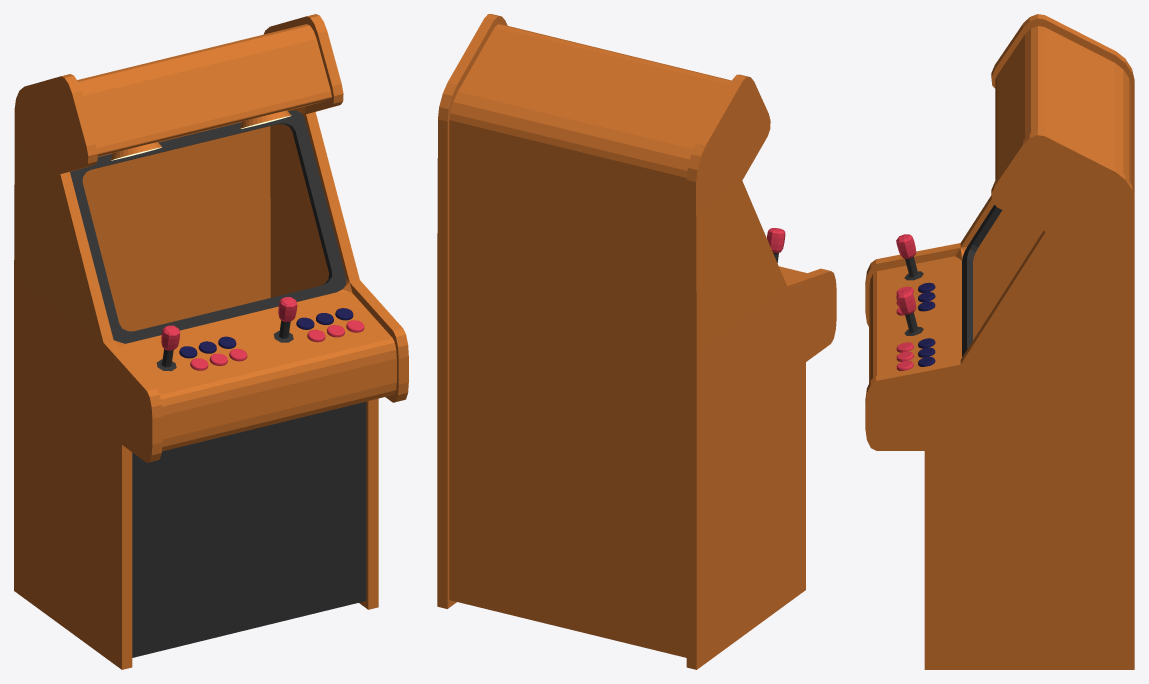
File: arcade_cabinet.glb
The picture shows the model from 3 angles, left to right: view 1: azimuth 30°, elevation 25°; view 2: azimuth 150°, elevation 25°; view 3: azimuth 270°, elevation 25°; orthographic projection. The views are drawn at different scales.
Visible parts, largest first — view 1: Cabinet, RButtons, LButtons, RJoystick, LJoystick; view 2: Cabinet; view 3: Cabinet, LButtons, RJoystick, LJoystick, RButtons.
Boxes of the visible parts, x1,y1,x2,y2 form: Cabinet: (14, 14, 408, 669); RButtons: (179, 336, 247, 370); LButtons: (296, 308, 364, 342); RJoystick: (156, 325, 180, 371); LJoystick: (278, 297, 297, 338); Cabinet: (437, 14, 836, 669); Cabinet: (865, 14, 1134, 669); LButtons: (896, 338, 935, 370); RJoystick: (896, 234, 923, 280); LJoystick: (896, 289, 918, 332); RButtons: (896, 282, 935, 315).
Size of the model in its own units: 0.7583 by 1.55 by 0.7085.
